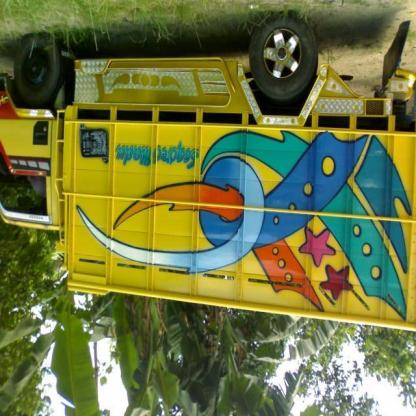truck: (1, 21, 416, 336)
